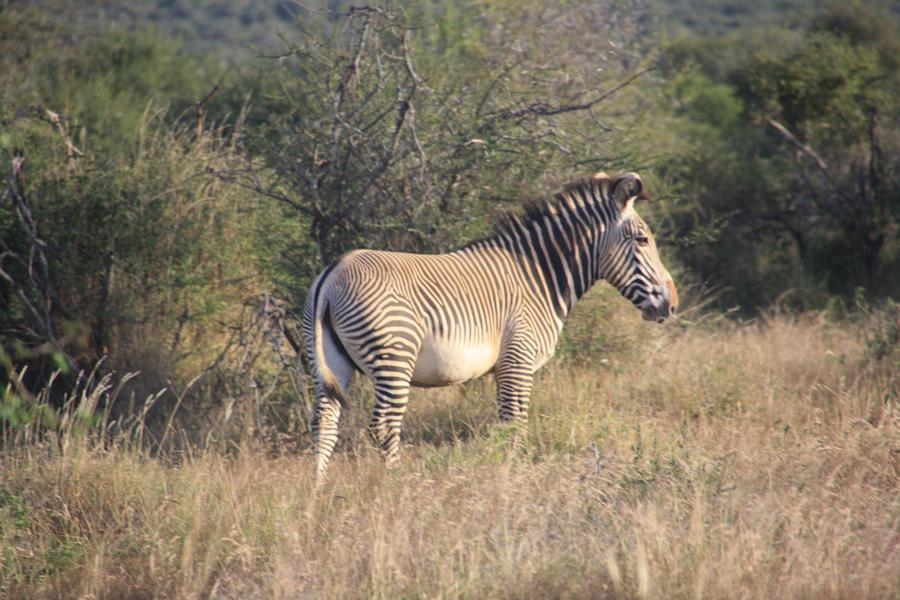zebra_grevys: (306, 244, 550, 357)
